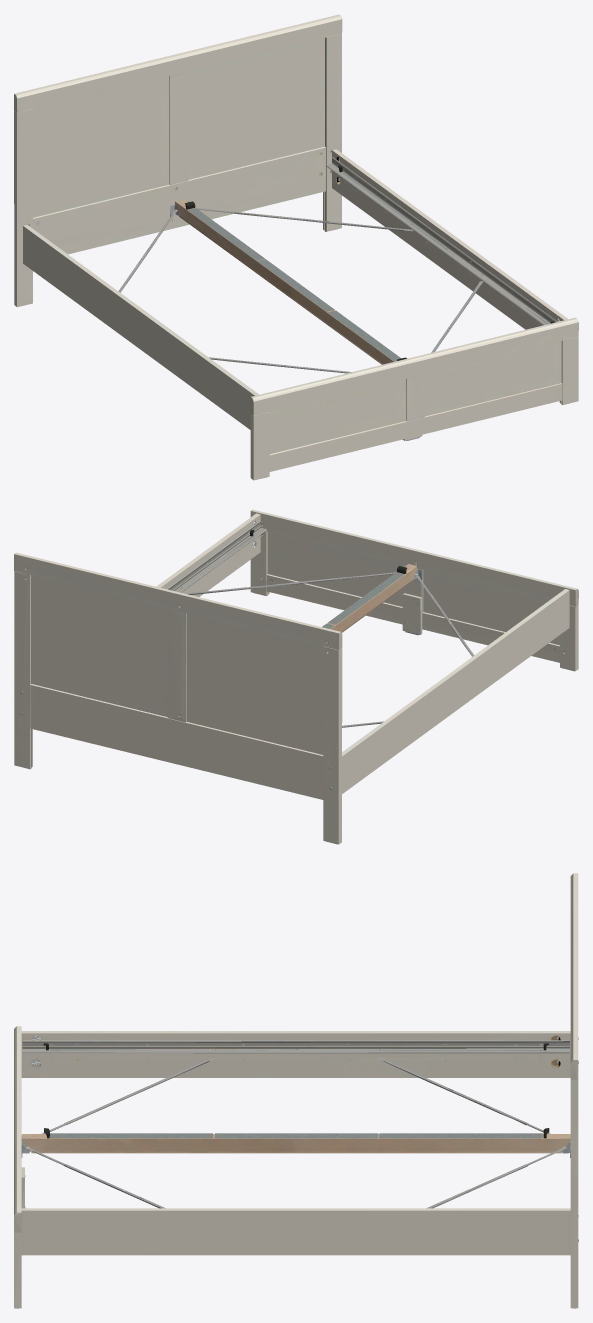
3 renders of one model, top to bottom at view 1: azimuth 30°, elevation 25°; view 2: azimuth 150°, elevation 25°; view 3: azimuth 270°, elevation 25°, orthographic. The views are drawn at different scales.
Visible parts, largest first — view 1: resizedAsset; view 2: resizedAsset; view 3: resizedAsset.
Boxes of the visible parts, x1=… form: resizedAsset: x1=14, y1=14, x2=578, y2=480; resizedAsset: x1=14, y1=509, x2=578, y2=844; resizedAsset: x1=14, y1=873, x2=578, y2=1308.
Size of the model in its own units: 1.62 by 1.01 by 2.07.
Materials: 1 (1 with a texture image).
